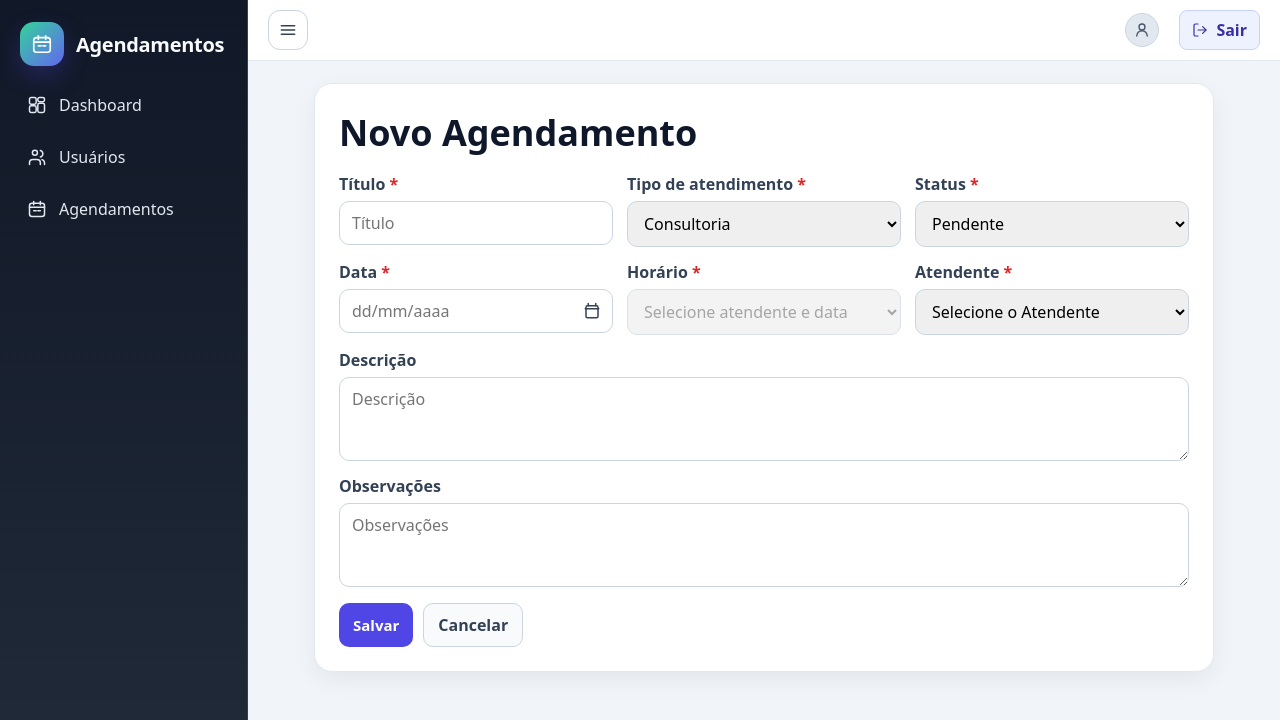
Test: AgendamentoForm - RQF2.1 › valida seleção de atendente obrigatória
Type "Meu Agendamento" into the field with placeholder "Título" at [476, 223], box left=339, top=201, right=613, bottom=245
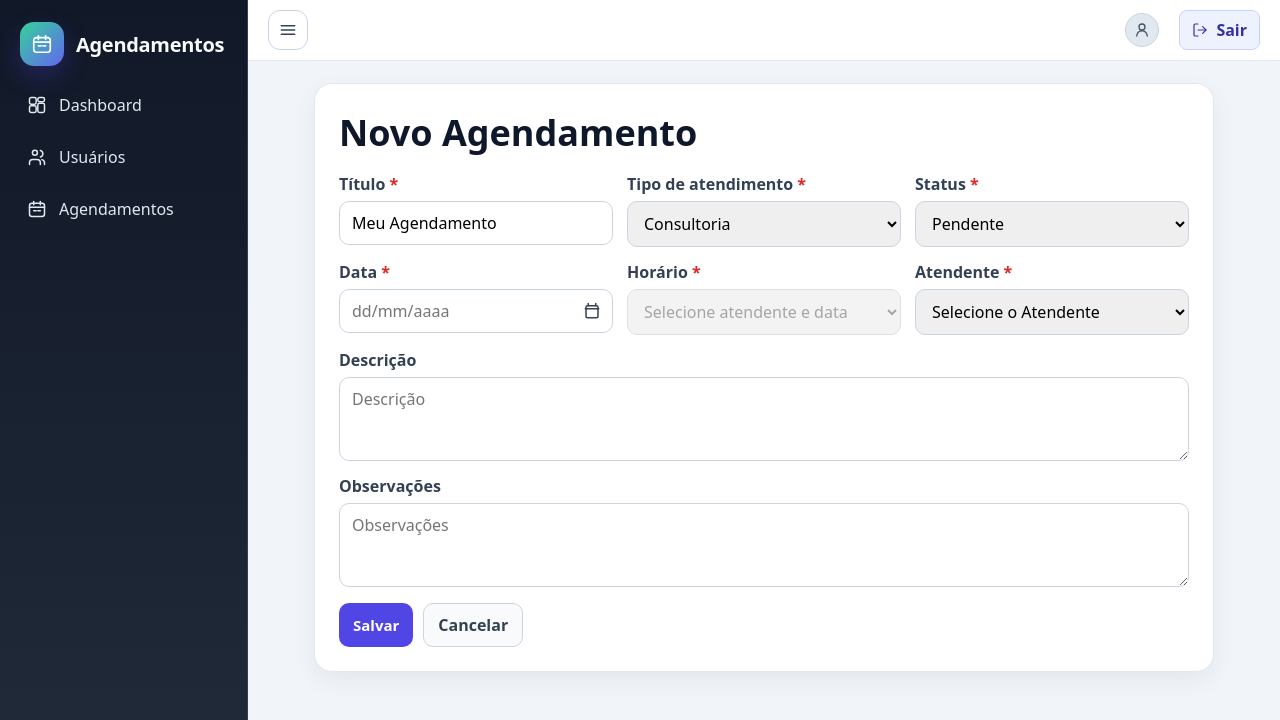
Type "2026-04-24" into the date field labelled "Data *" at [476, 298], box left=339, top=261, right=613, bottom=335
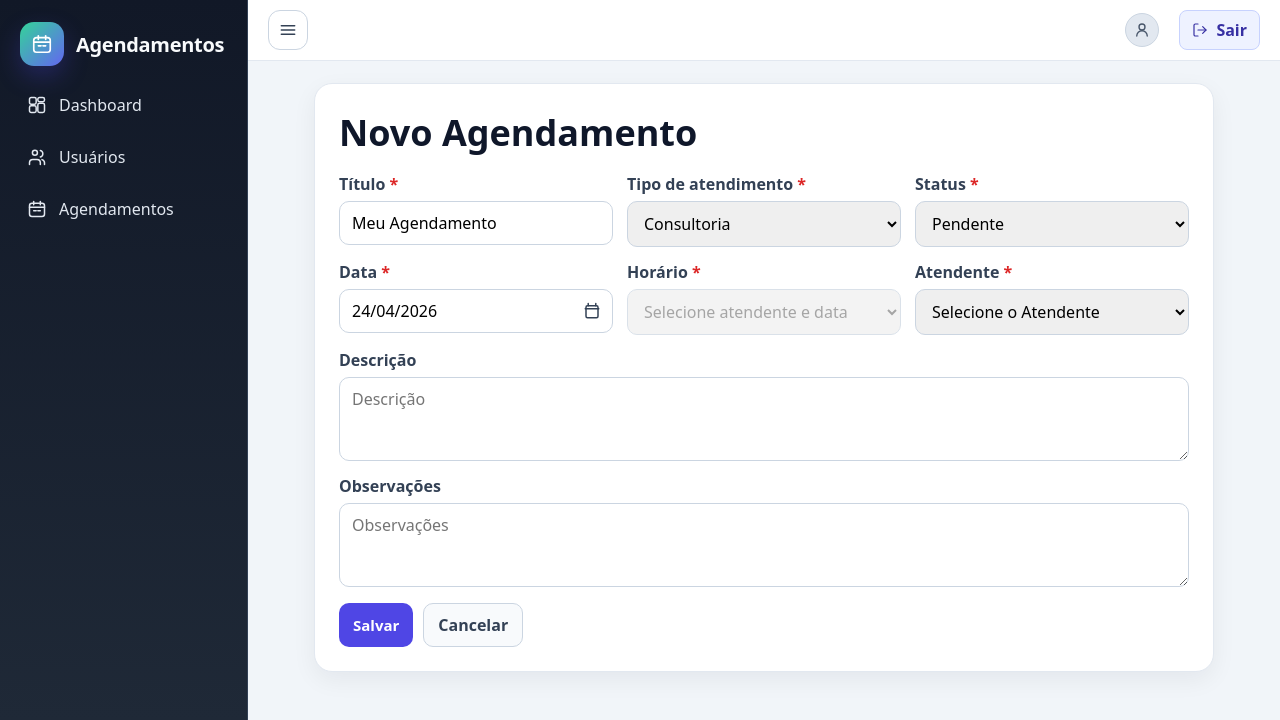
Click the button "Salvar" at [376, 625], box left=339, top=603, right=413, bottom=647
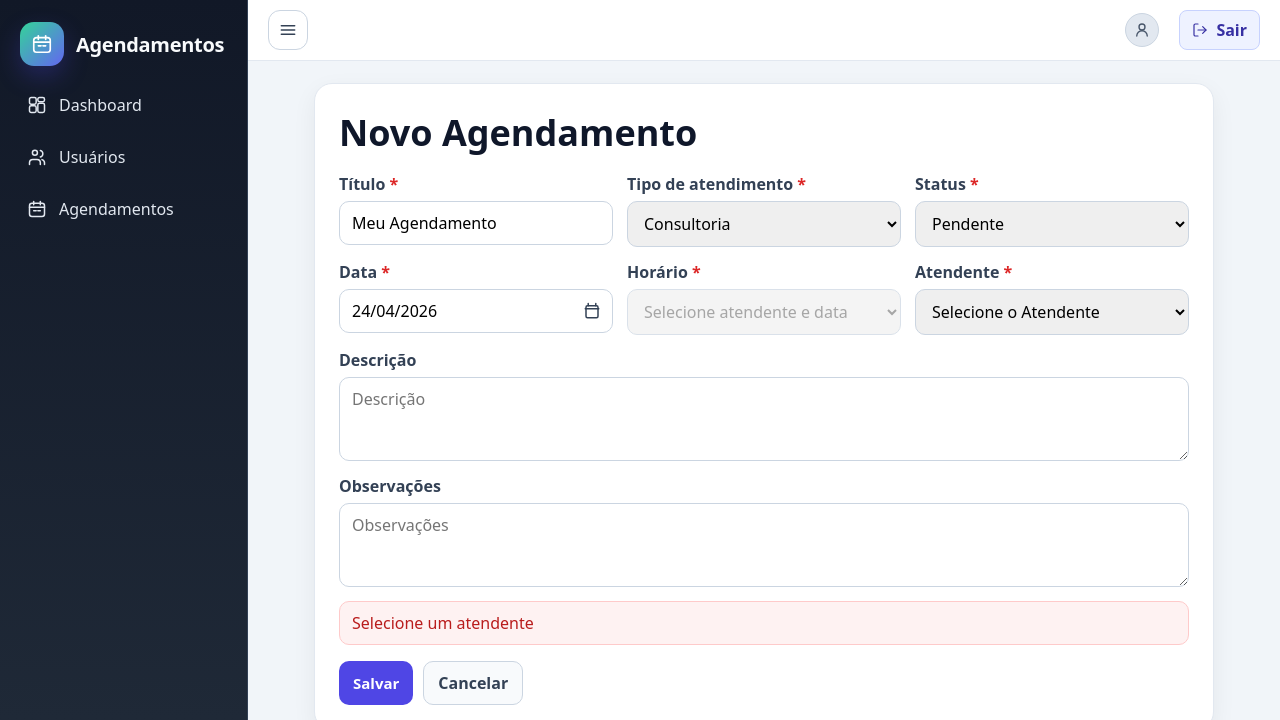
Result: the text with test id "form-error" reads "Selecione um atendente" at left=352, top=612, right=534, bottom=634
